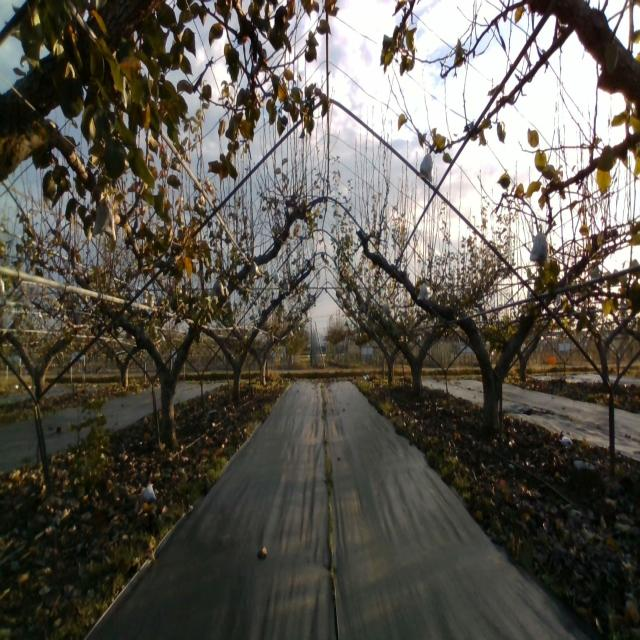pearbags: (92, 193, 116, 242), (530, 226, 548, 269), (419, 150, 433, 184), (210, 277, 225, 297), (417, 282, 433, 300), (250, 262, 260, 282)
